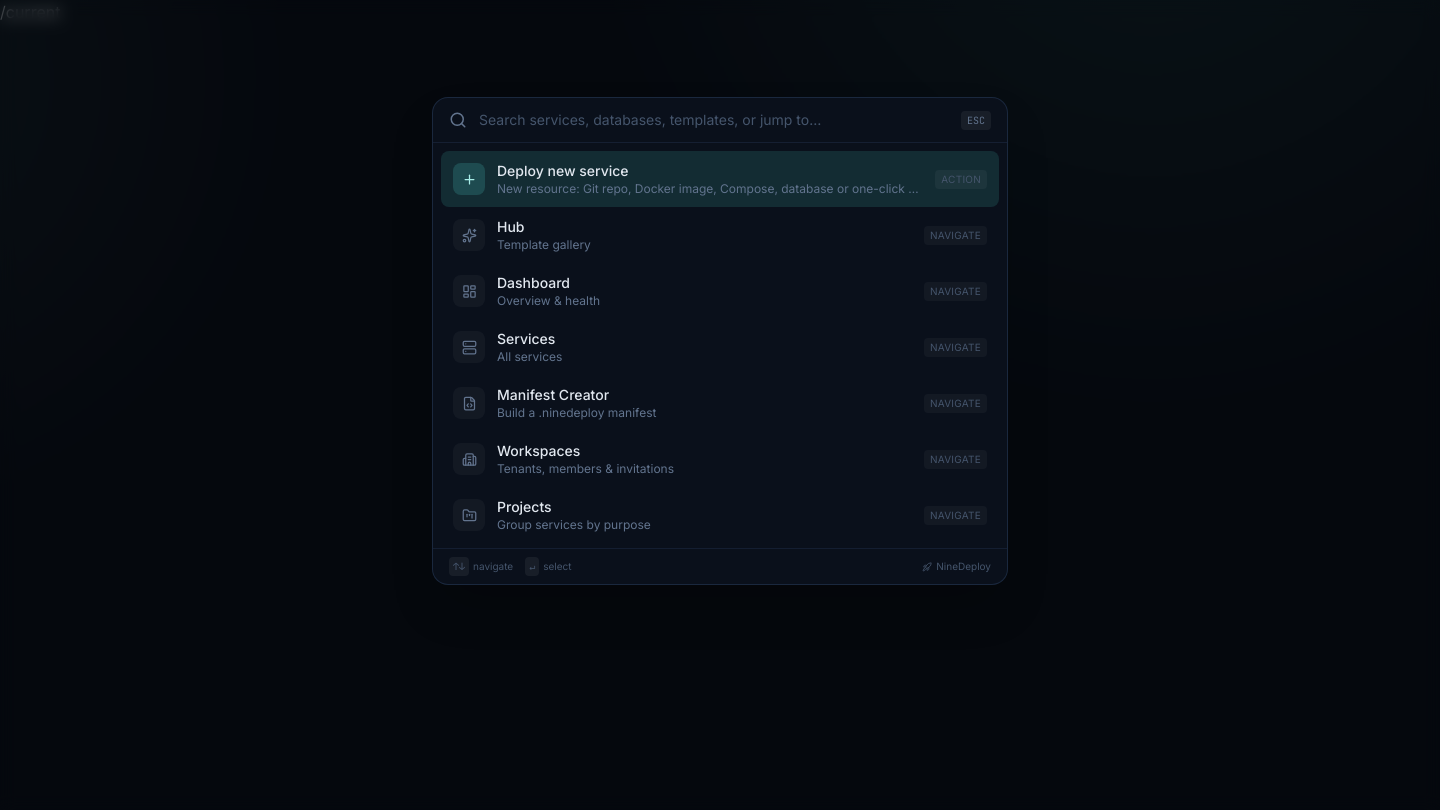
CommandPalette › shows an empty-state message when nothing matches
Expected: the text "Hub" is shown, left=497, top=218, right=524, bottom=235
Type "zzzz" into the dropdown with placeholder "Search services, databases, templates, or jump to…" at (714, 120), box left=479, top=110, right=949, bottom=130
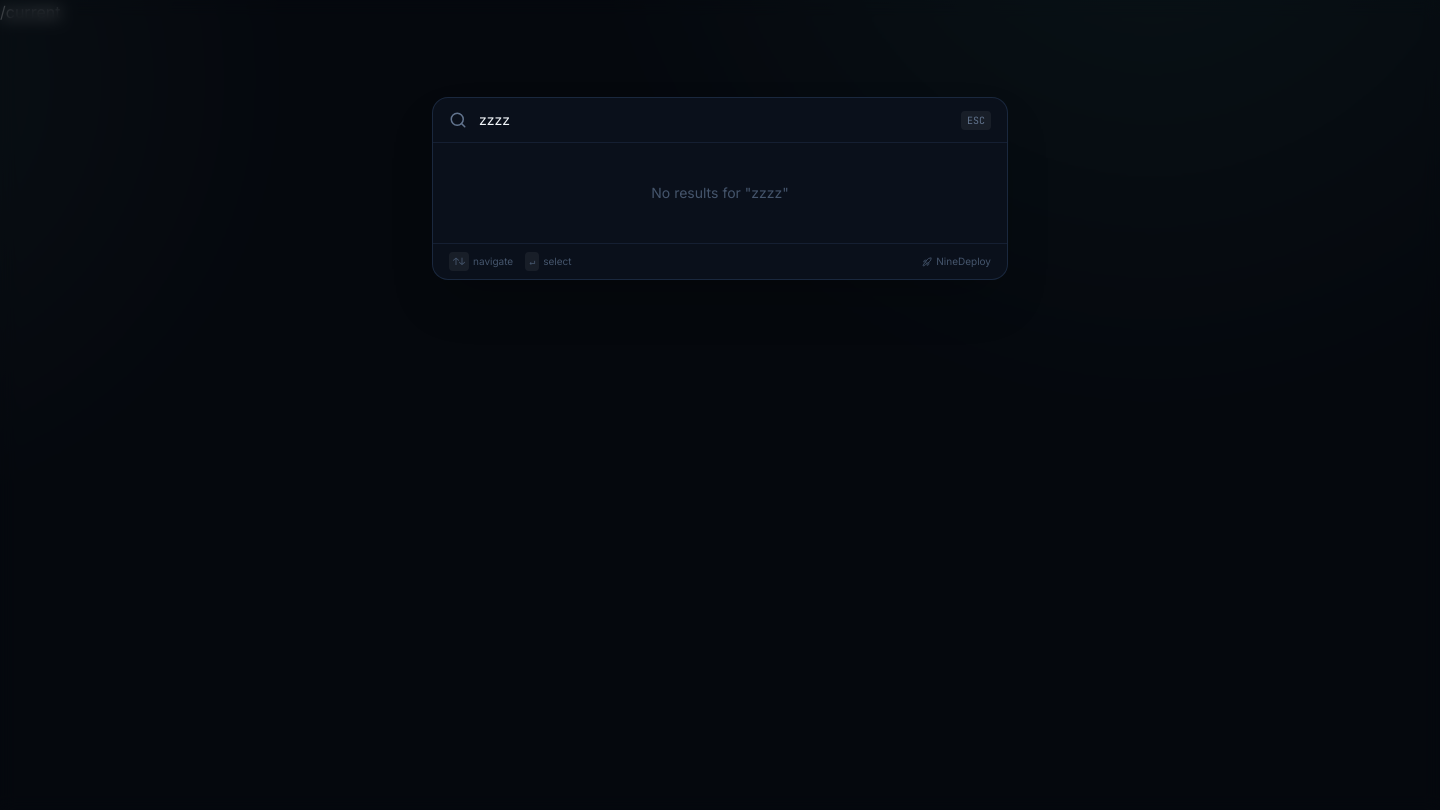
Result: the text "No results for \"zzzz\"" is shown at left=651, top=184, right=789, bottom=201
